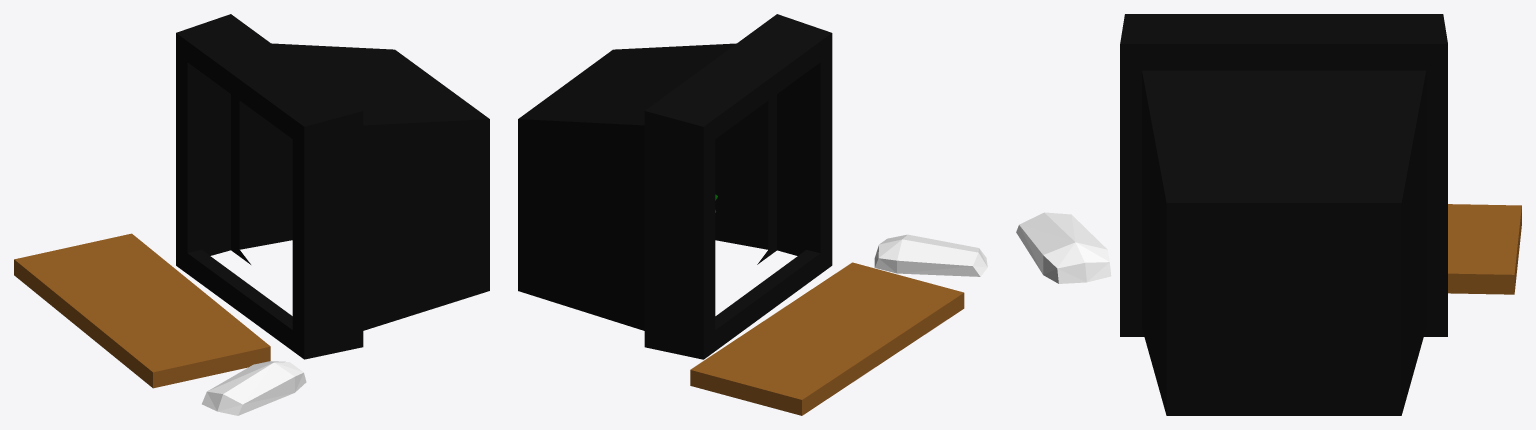
File: computer with materials.obj
3 renders of one model, left to right at view 1: azimuth 30°, elevation 25°; view 2: azimuth 150°, elevation 25°; view 3: azimuth 270°, elevation 25°, orthographic. The views are drawn at different scales.
Size of the model in its own units: 1.64 by 1.08 by 1.68.
